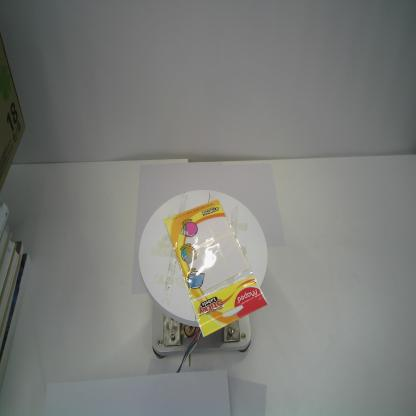Stationery: (160, 197, 272, 342)
